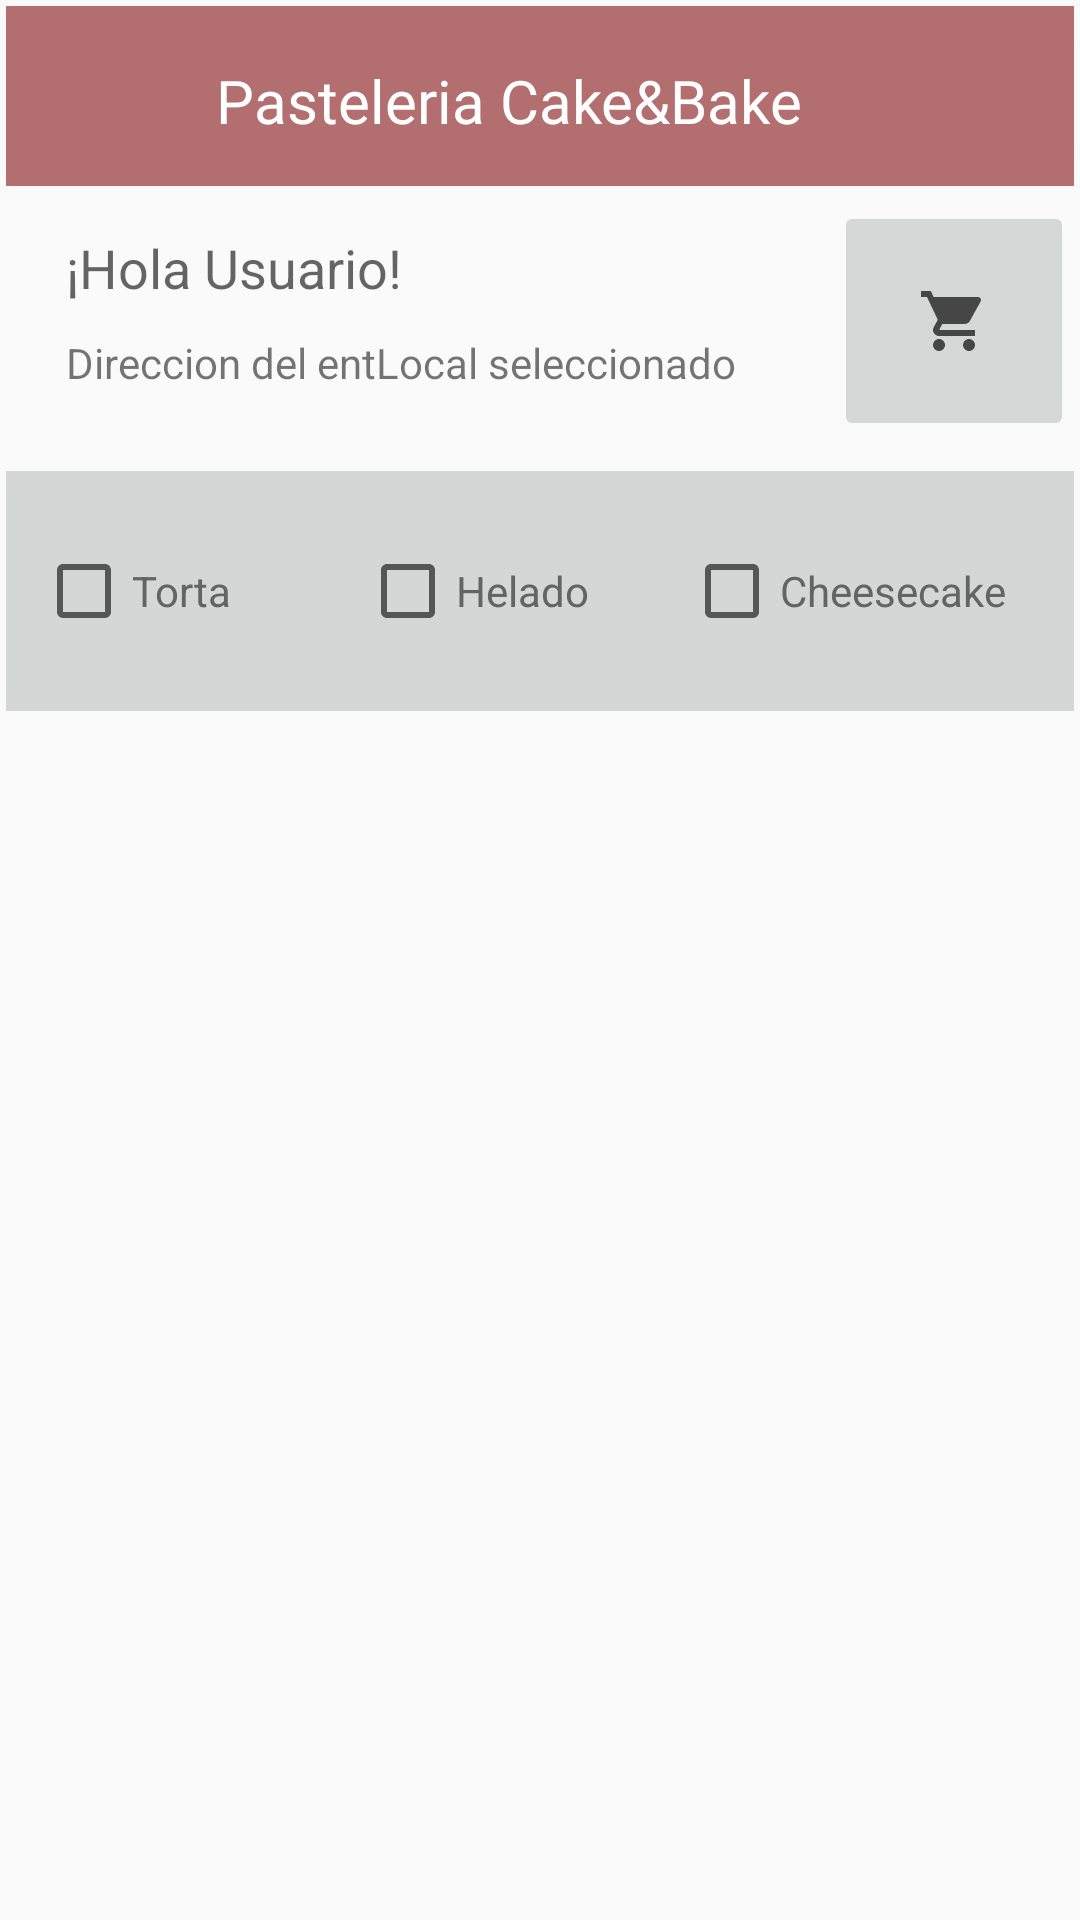

Named icons in this screenshot (1080 × 1920) and their bounding boxes, (x1, y1, x2, y2):
shopping car: (846, 219, 1062, 423)
